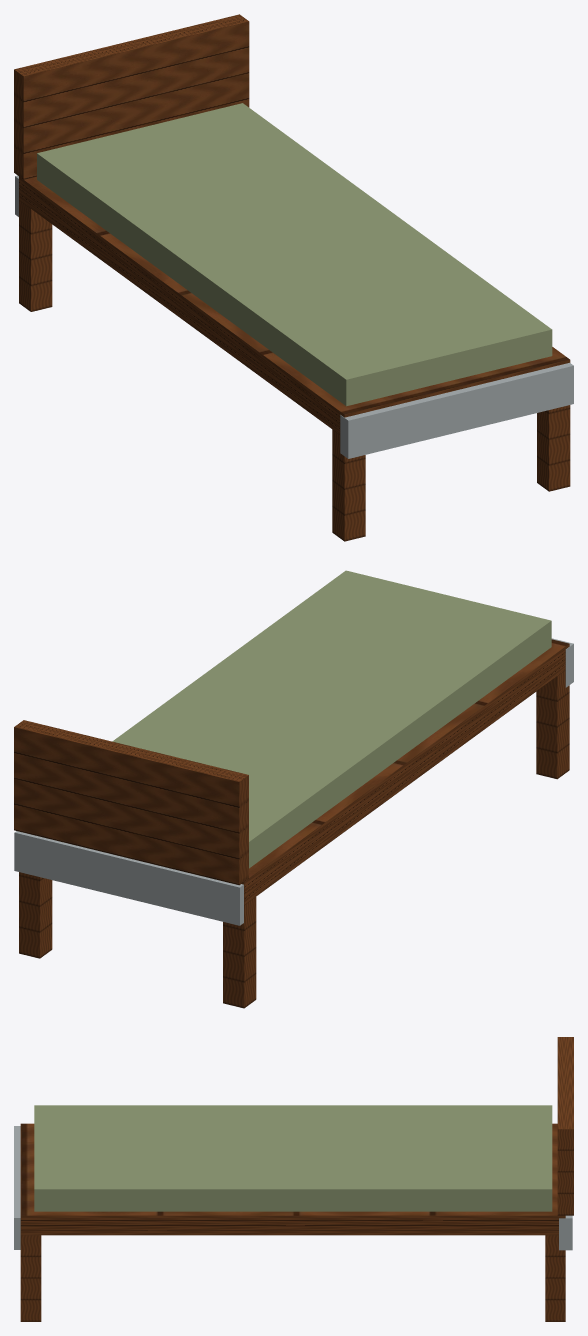
Rendered from bunker-shelter-construction-bunk-single-frame-24541bab__23324.glb.
3 renders of one model, top to bottom at view 1: azimuth 30°, elevation 25°; view 2: azimuth 150°, elevation 25°; view 3: azimuth 270°, elevation 25°, orthographic. The views are drawn at different scales.
Parts seen in each view (by area): view 1: bunk-single-frame; view 2: bunk-single-frame; view 3: bunk-single-frame.
Boxes of the visible parts, x1,y1,x2,y2 form: bunk-single-frame: [14, 14, 573, 541]; bunk-single-frame: [14, 570, 573, 1008]; bunk-single-frame: [14, 1037, 573, 1321].
Bounding box in the file's own units: 0.8024 × 0.7799 × 2.06.
3 materials, 1 textured.
